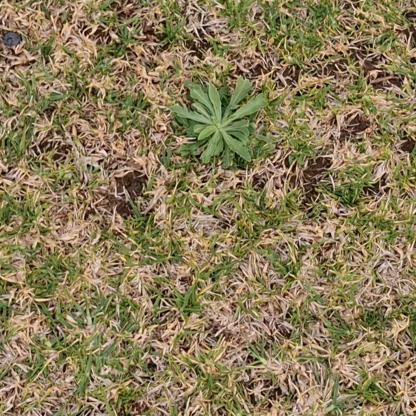Weeds: (168, 76, 271, 170)
